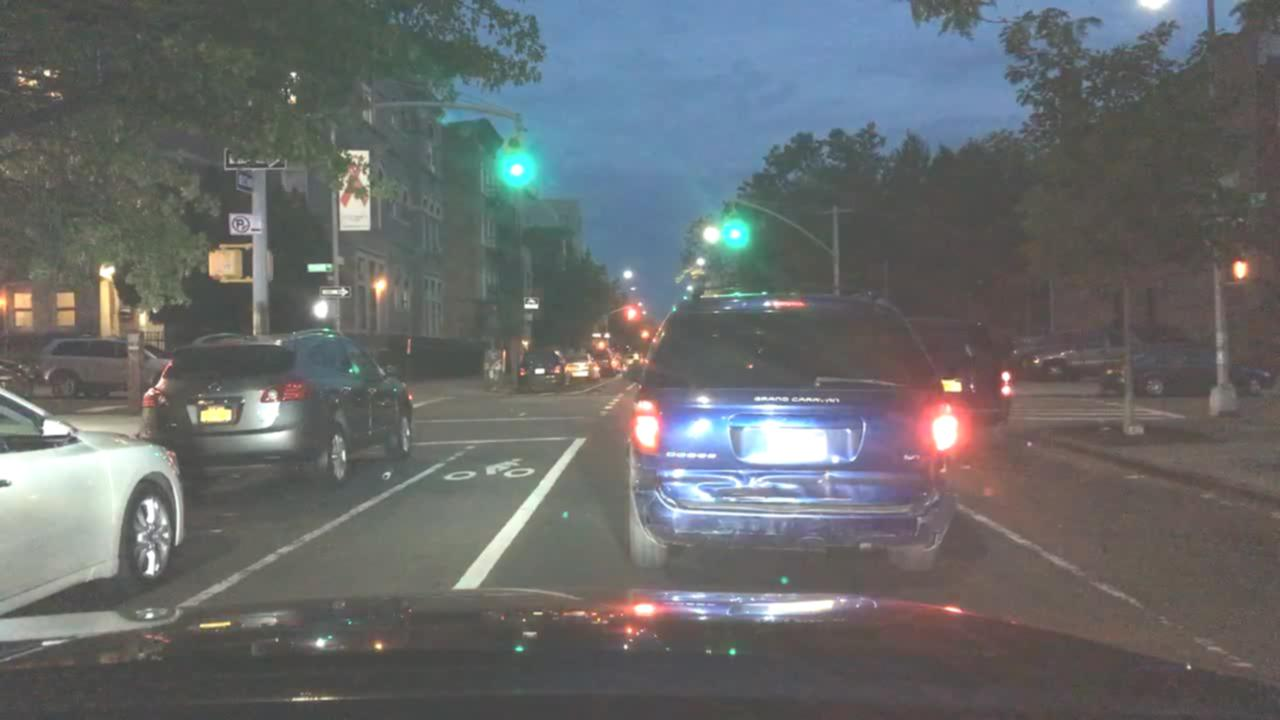dodge: (663, 447, 722, 465)
